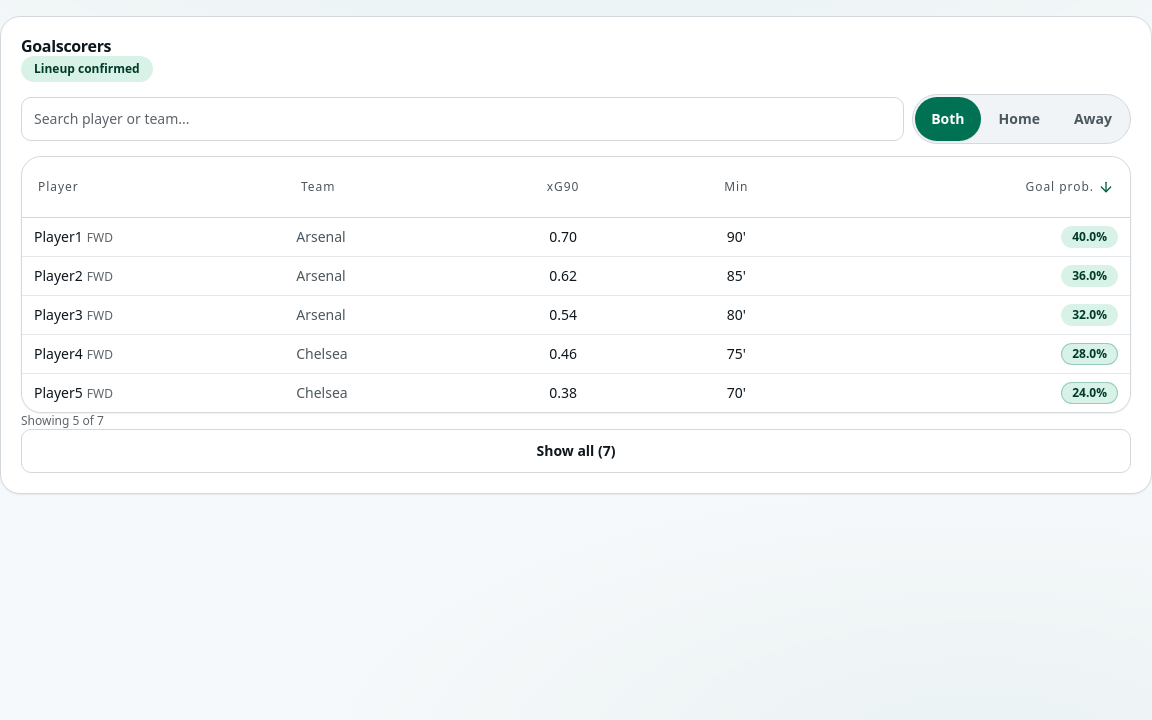
Test: ScorerPanel › shows empty state for unmatched search
Step 1. Type "zzz" into the search field labelled "Search player or team..." → (463, 119), box [21,97,904,141]
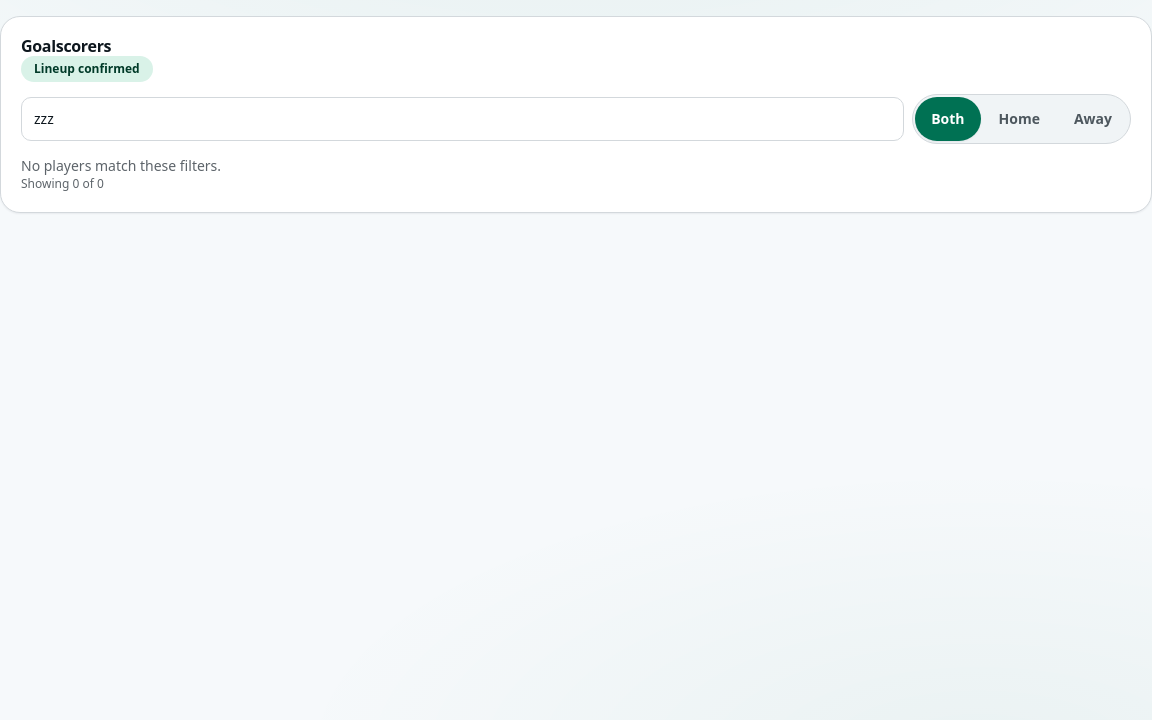
Now the text "No players match these filters." is shown, box [21,156,221,175]
